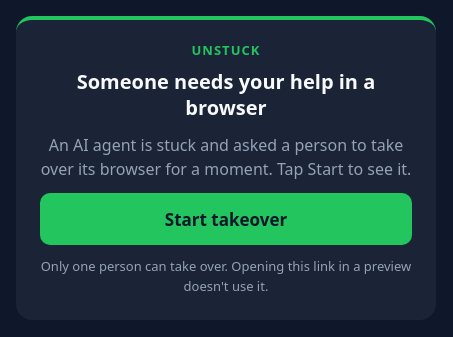
approval screen › an approval result stays once it arrived, even when the session is then reported ended or lost
Click the button "Start takeover": (226, 219) [40, 193, 412, 245]
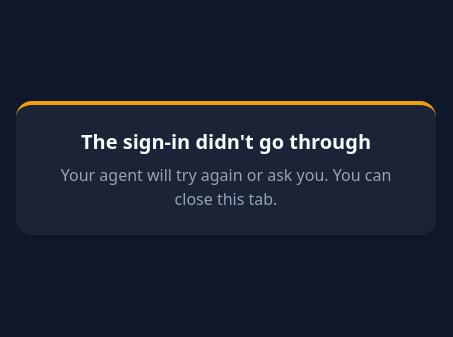
Check: the heading "The sign-in didn't go through" is shown, box [81, 128, 371, 155]
